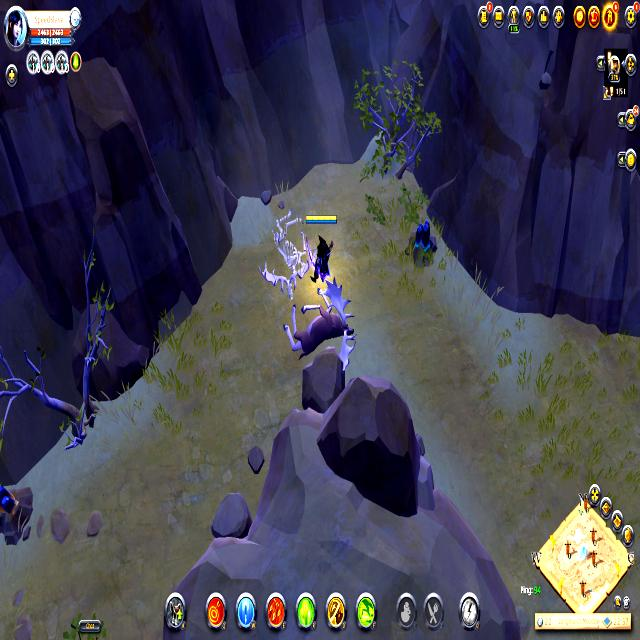mob: (278, 274, 362, 373)
player: (0, 480, 37, 546), (406, 218, 440, 273)
red: (303, 210, 339, 287)
